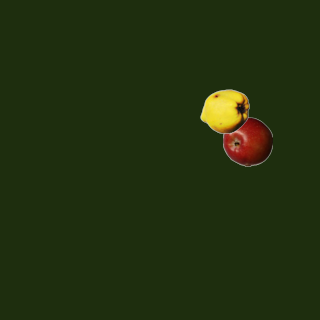Apple Braeburn: (222, 116, 272, 166)
Quince: (199, 86, 249, 136)
